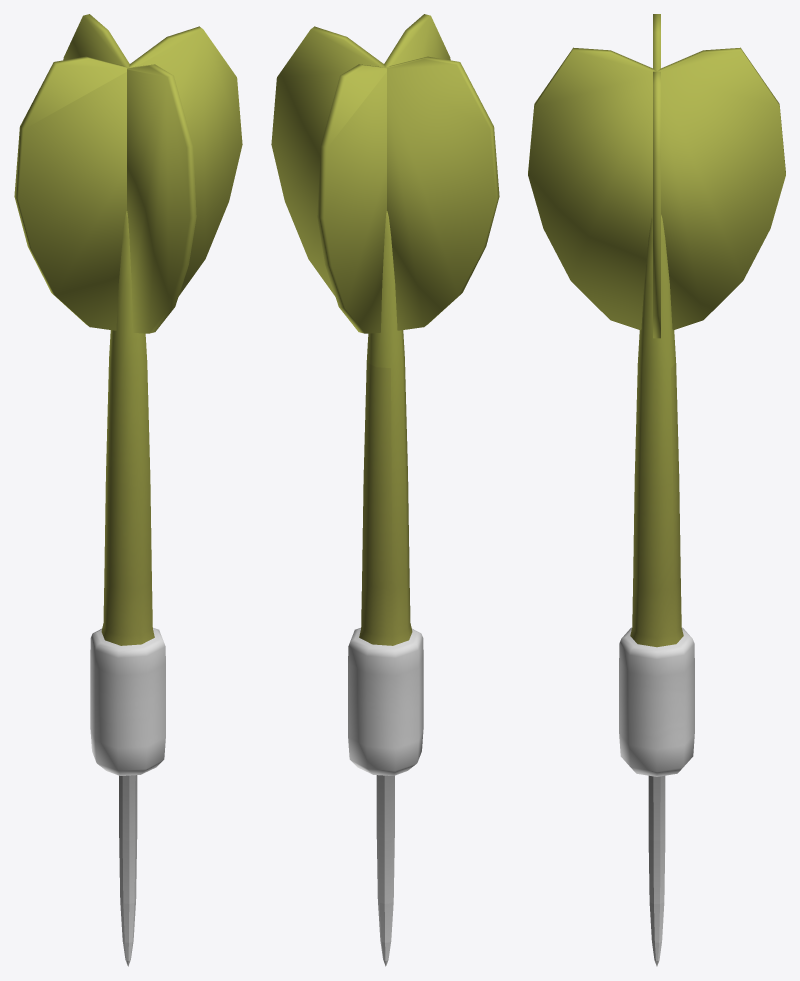
Rendered from SM_dart_green.fbx.
3 renders of one model, left to right at view 1: azimuth 30°, elevation 25°; view 2: azimuth 150°, elevation 25°; view 3: azimuth 270°, elevation 25°, orthographic.
Visible parts, largest first — view 1: Cube.010; view 2: Cube.010; view 3: Cube.010.
Part boxes in pixels (x1,y1,x2,y2): Cube.010: (14,14,242,966); Cube.010: (271,14,499,966); Cube.010: (528,14,785,966).
Bounding box in the file's own units: 388 × 1521 × 388.
